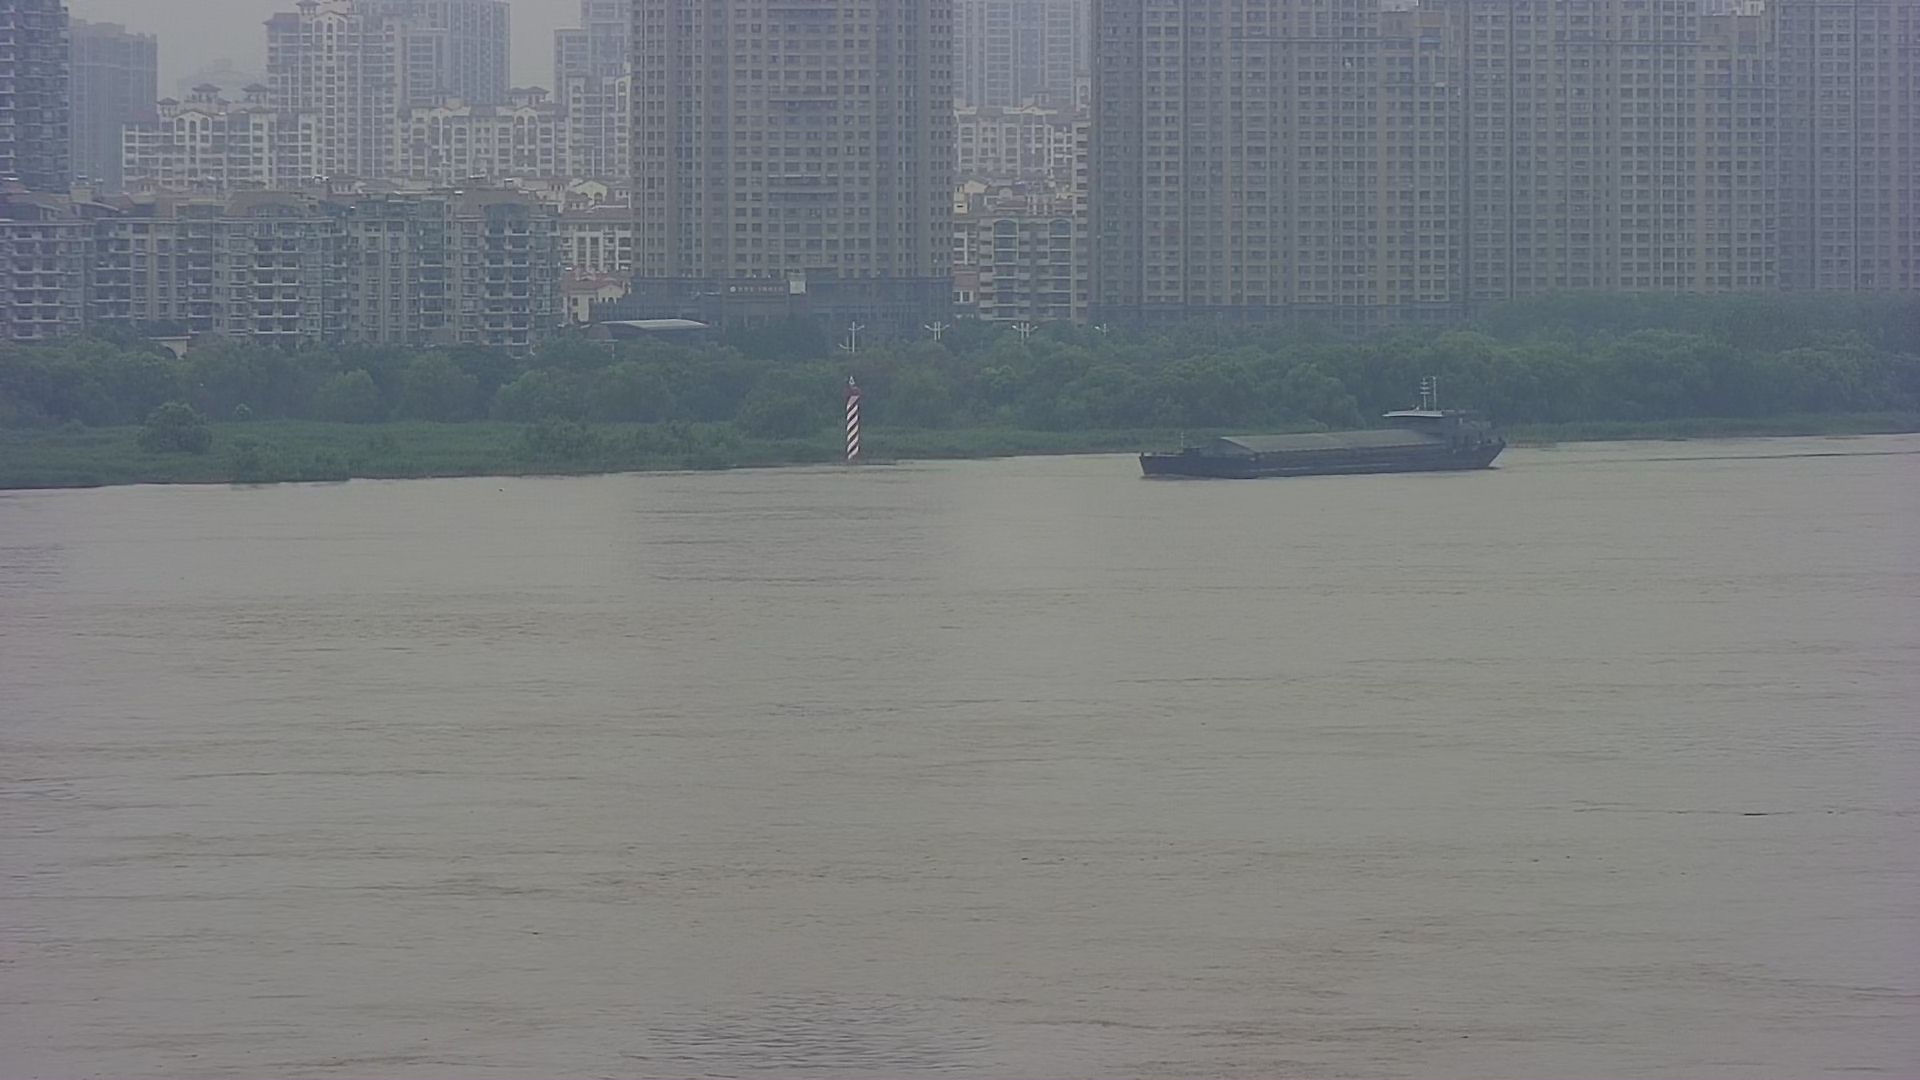ship: (1116, 388, 1531, 483)
